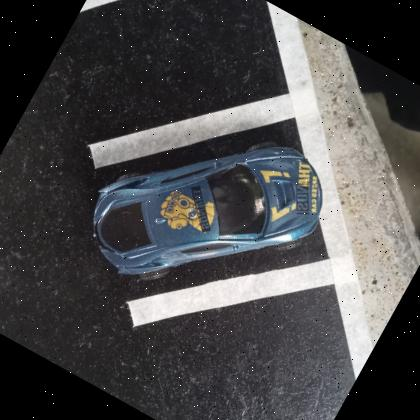Car: (92, 140, 323, 274)
